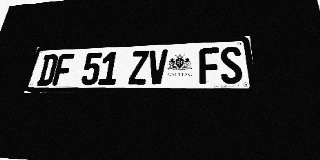1: (98, 52, 119, 85)
5: (81, 52, 103, 85)
D: (36, 54, 59, 86)
F: (199, 47, 221, 84), (52, 54, 74, 85)
S: (219, 46, 244, 84)
V: (147, 50, 168, 85)
Z: (128, 50, 149, 85)
